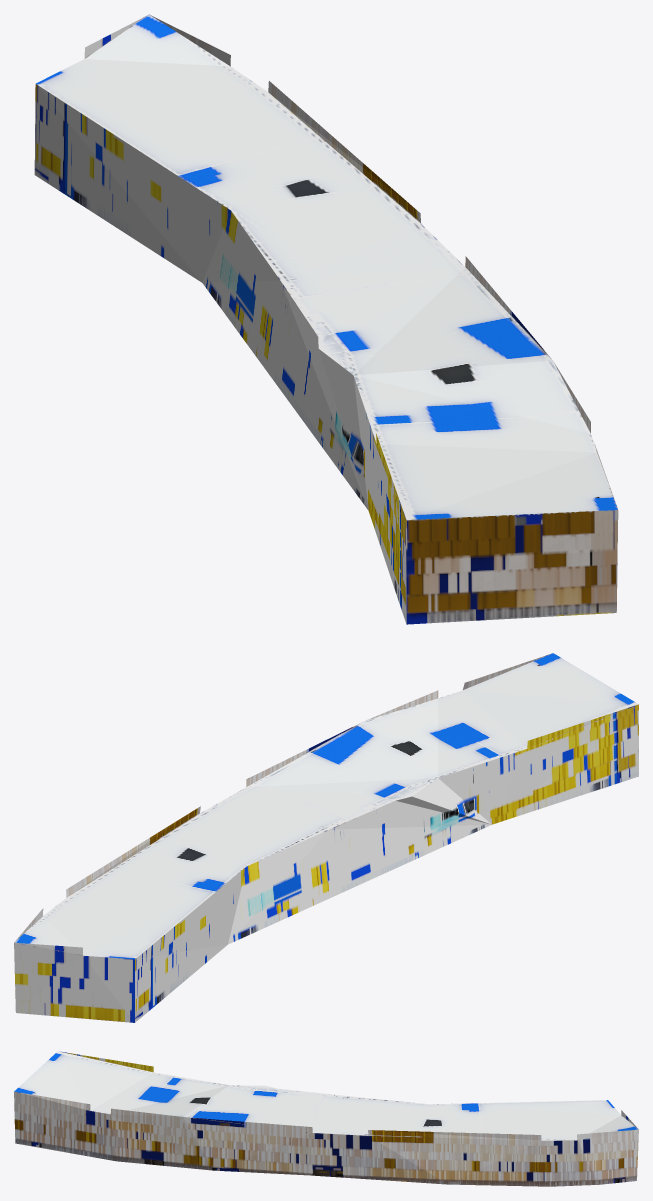
The picture shows the model from 3 angles, top to bottom: view 1: azimuth 30°, elevation 25°; view 2: azimuth 150°, elevation 25°; view 3: azimuth 270°, elevation 25°; orthographic projection. The views are drawn at different scales.
Parts seen in each view (by area): view 1: 1.04copy; view 2: 1.04copy; view 3: 1.04copy.
Part boxes in pixels (x1,y1,x2,y2): 1.04copy: (34,14,618,624); 1.04copy: (14,653,638,1022); 1.04copy: (14,1051,638,1186).
Size of the model in its own units: 81.87 by 23.92 by 256.
Materials: 1 (1 with a texture image).
